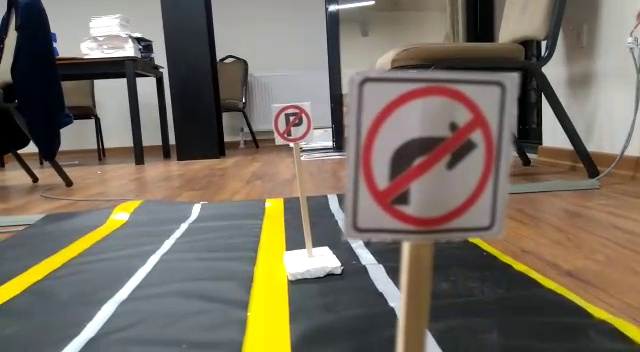park_yapilmaz: (272, 102, 315, 141)
saga_donulmez: (355, 81, 505, 236)
